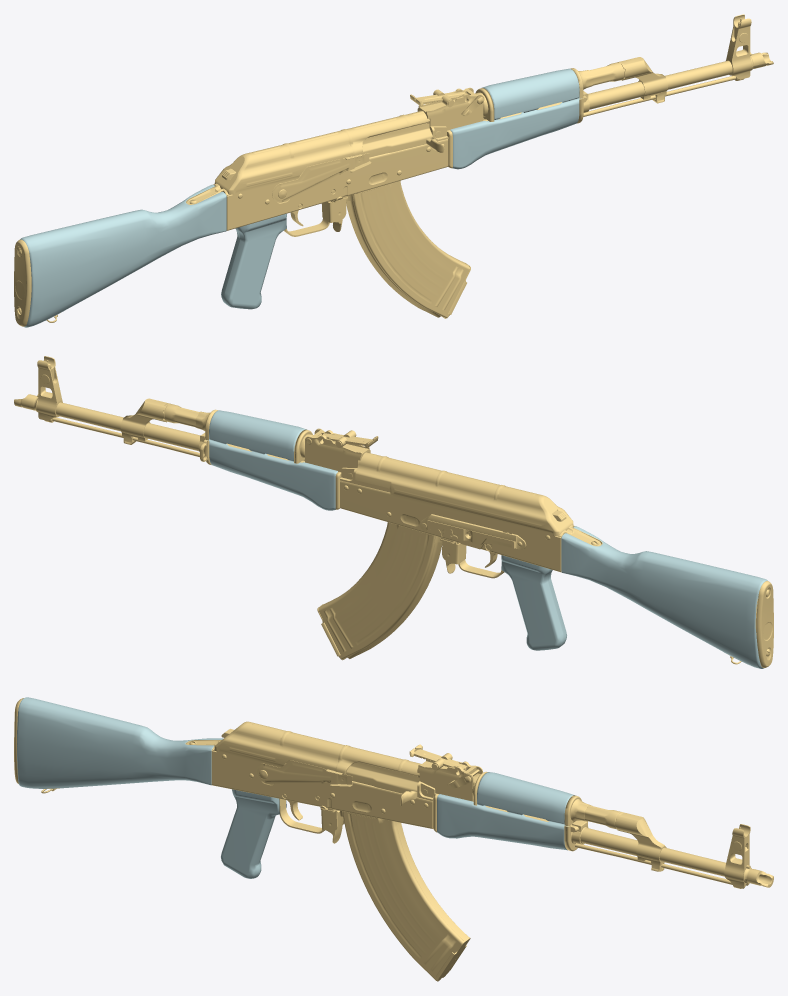
File: ak47_gold.glb
The picture shows the model from 3 angles, top to bottom: view 1: azimuth 30°, elevation 25°; view 2: azimuth 150°, elevation 25°; view 3: azimuth 330°, elevation 25°; orthographic projection.
Parts seen in each view (by area): view 1: AK_47_0; view 2: AK_47_0; view 3: AK_47_0.
Boxes of the visible parts, left/top/right/bottom form: AK_47_0: left=14, top=14, right=773, bottom=327; AK_47_0: left=14, top=356, right=773, bottom=668; AK_47_0: left=14, top=697, right=773, bottom=981.
Size of the model in its own units: 3.73 by 1.07 by 0.2812.
3 materials, 1 textured.
